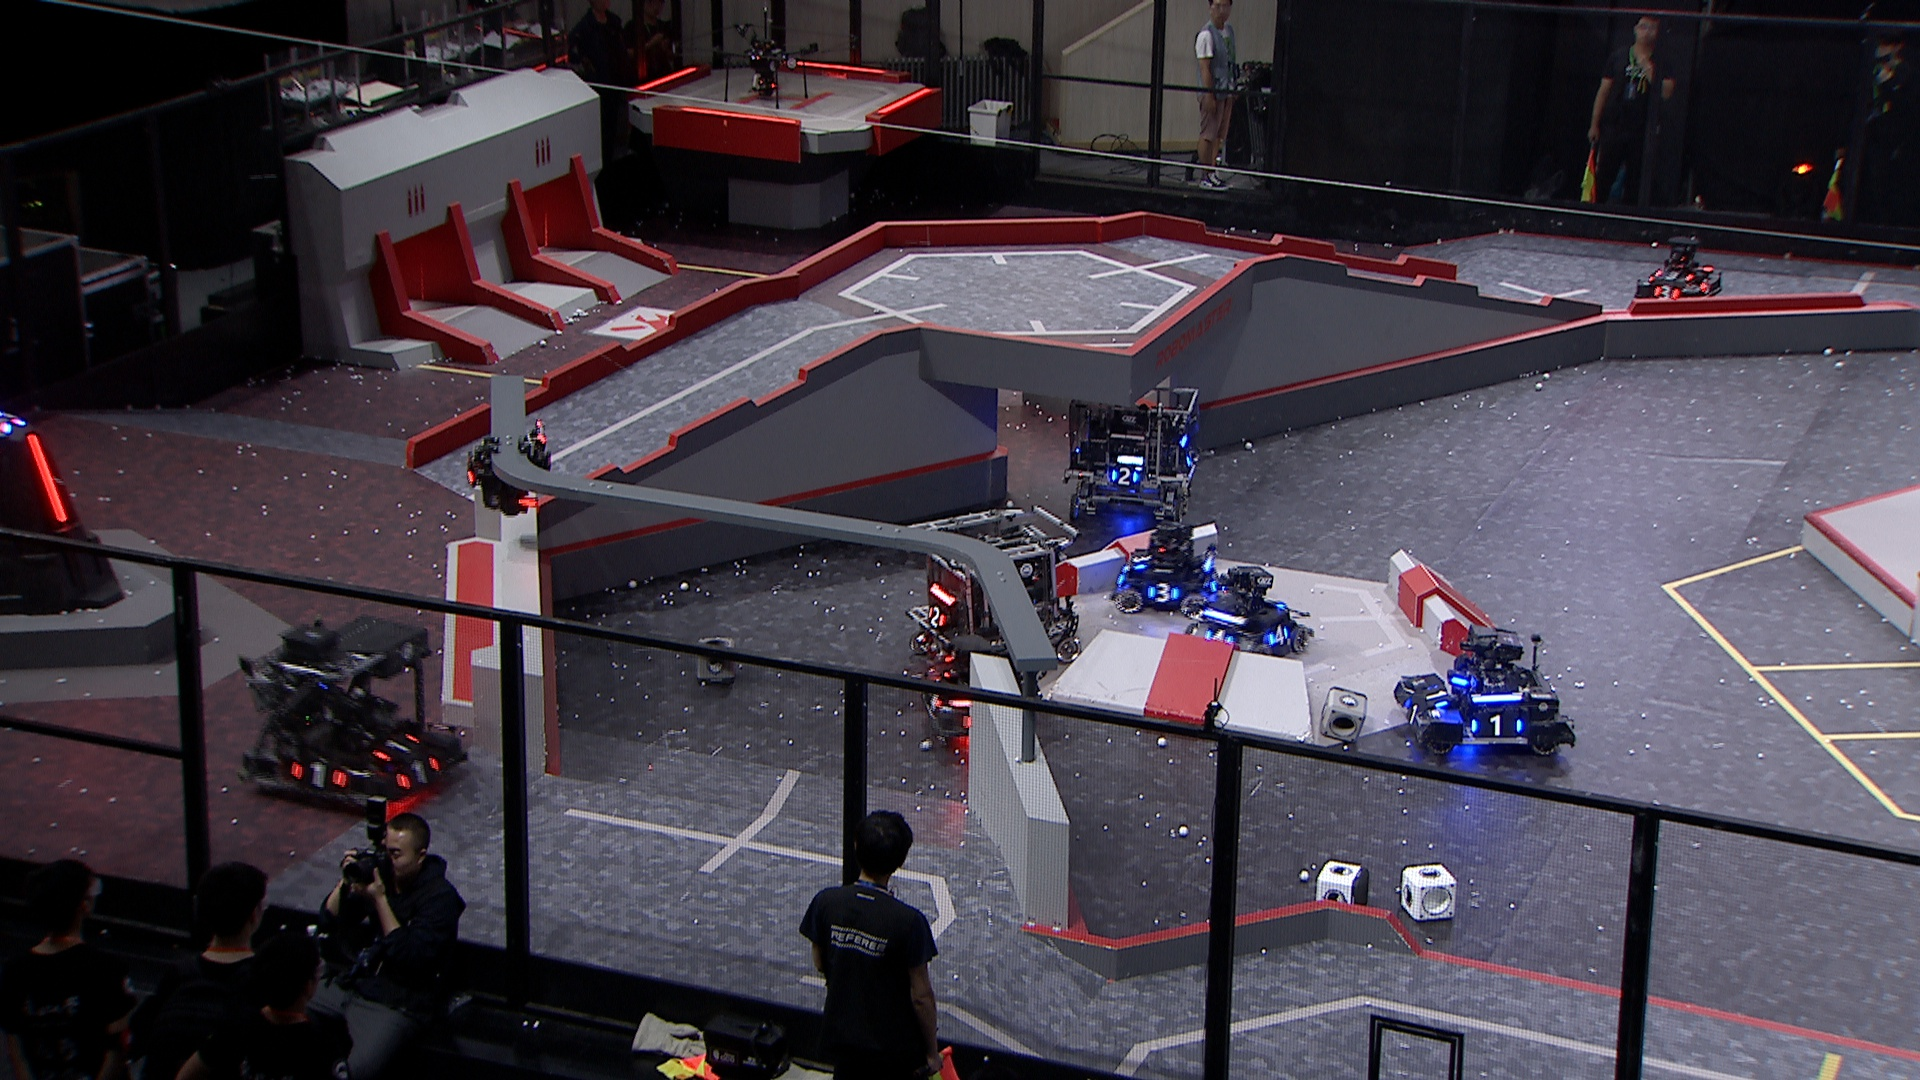armor: (26, 433, 74, 524), (290, 761, 349, 793), (372, 727, 422, 764), (396, 756, 443, 794), (1472, 708, 1523, 738), (1423, 684, 1453, 712), (1204, 626, 1234, 654), (1400, 698, 1425, 731), (1106, 463, 1141, 487), (1263, 622, 1294, 646), (1147, 583, 1182, 603), (1650, 281, 1681, 302), (920, 684, 944, 712), (1652, 268, 1693, 284), (924, 604, 949, 628), (1127, 550, 1150, 570), (1697, 276, 1717, 297)
car: (240, 613, 471, 811), (913, 498, 1081, 674), (1393, 622, 1581, 756), (1060, 386, 1203, 527), (910, 629, 1033, 740), (1182, 559, 1313, 661), (1105, 513, 1229, 616), (1633, 232, 1726, 305)
watcher: (460, 419, 553, 517)
